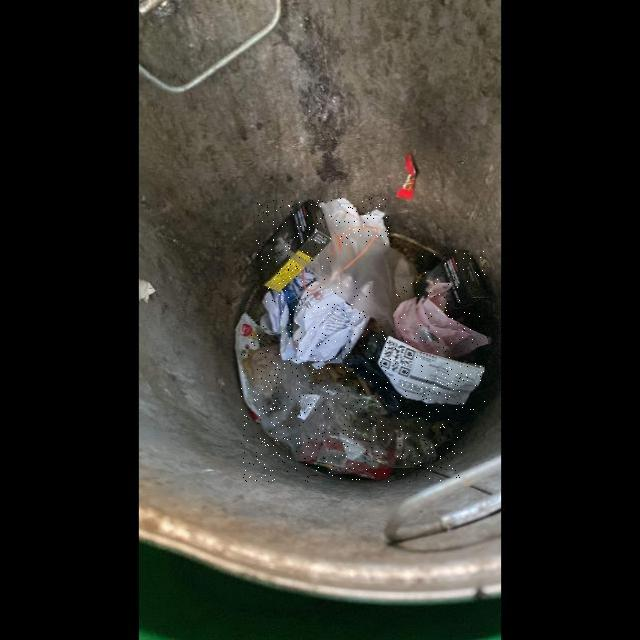paper: (261, 281, 371, 370), (257, 201, 332, 293), (416, 251, 488, 312), (336, 199, 389, 246)
plastic: (241, 333, 462, 482), (346, 330, 486, 412), (393, 284, 489, 363)
